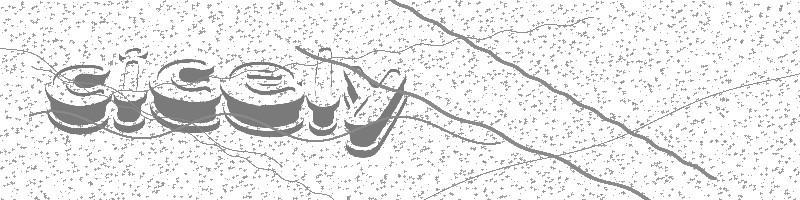c: (149, 58, 221, 134), (45, 63, 110, 136)
e: (219, 59, 305, 138)
i: (113, 47, 149, 133)
l: (307, 45, 341, 137)
y: (342, 64, 407, 159)
